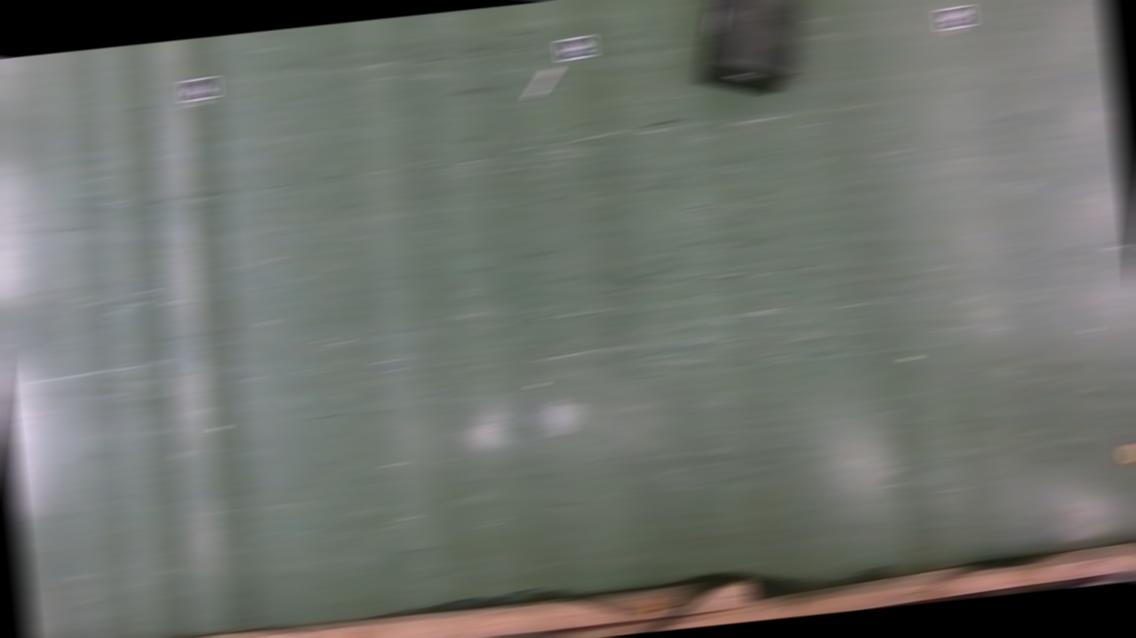probes: (524, 67, 559, 100)
rako: (684, 0, 820, 103)
